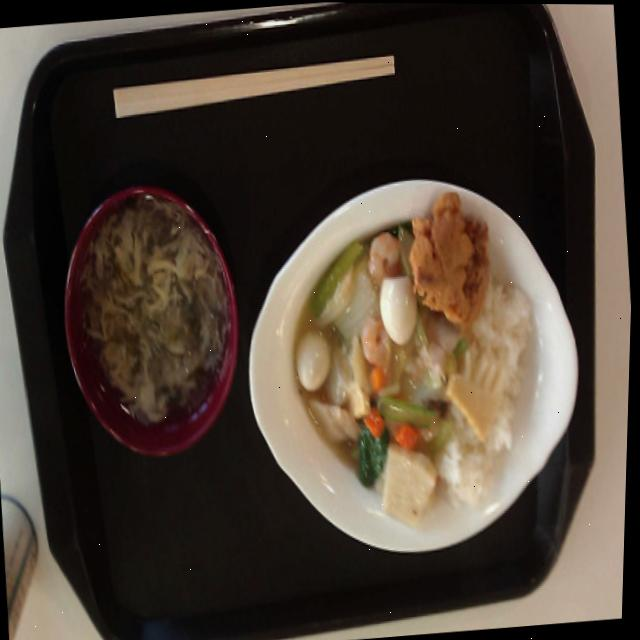汤锅炖物: (44, 166, 266, 480)
